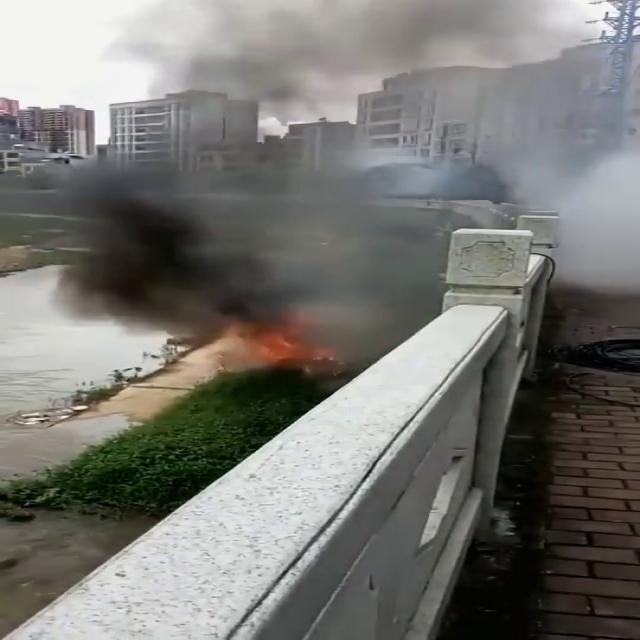Smoke: (11, 0, 630, 341), (15, 0, 640, 327)
